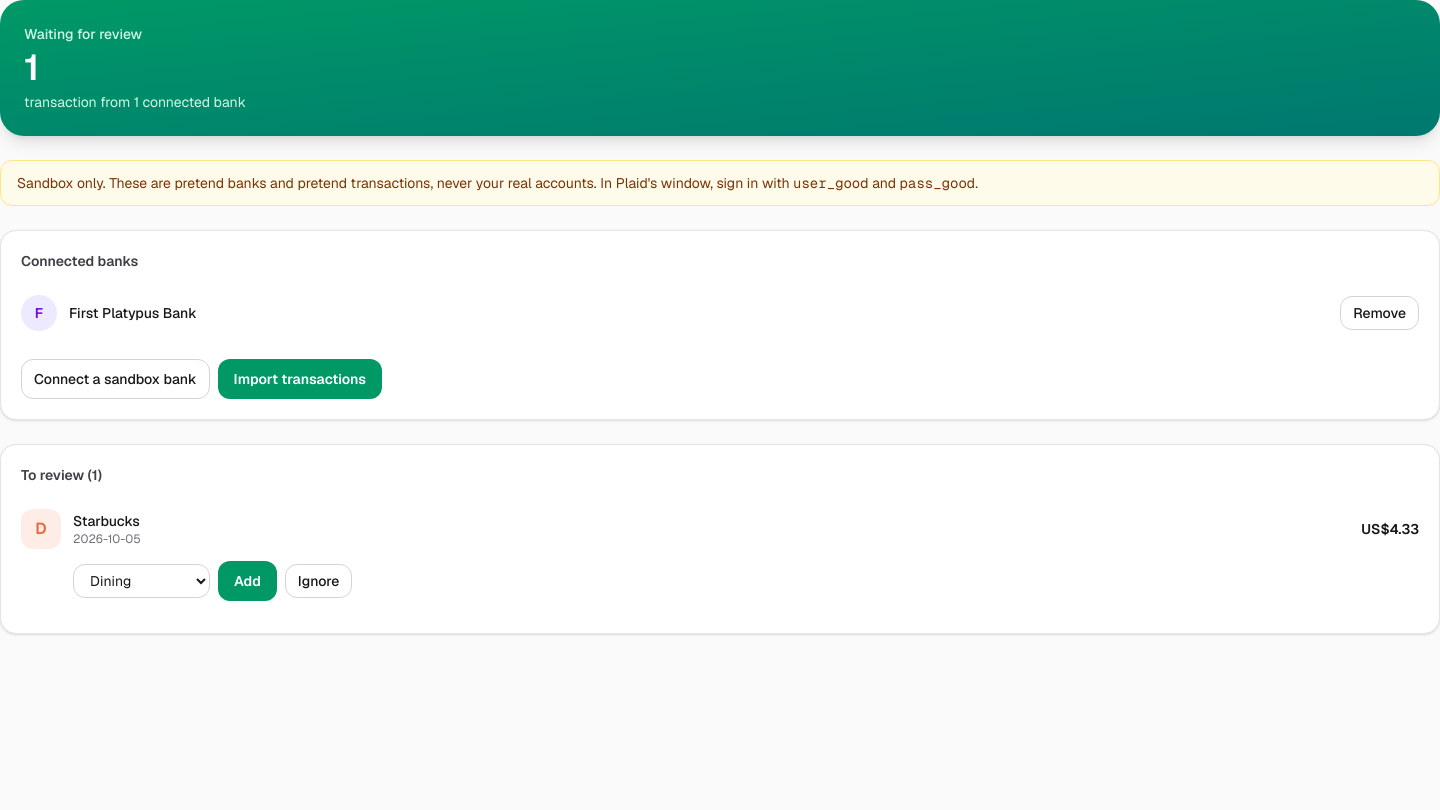
Scenario: an import that finds nothing suggests trying again
The image size is (1440, 810).
Click the button "Import transactions" at (300, 379), box [218,359,382,399]
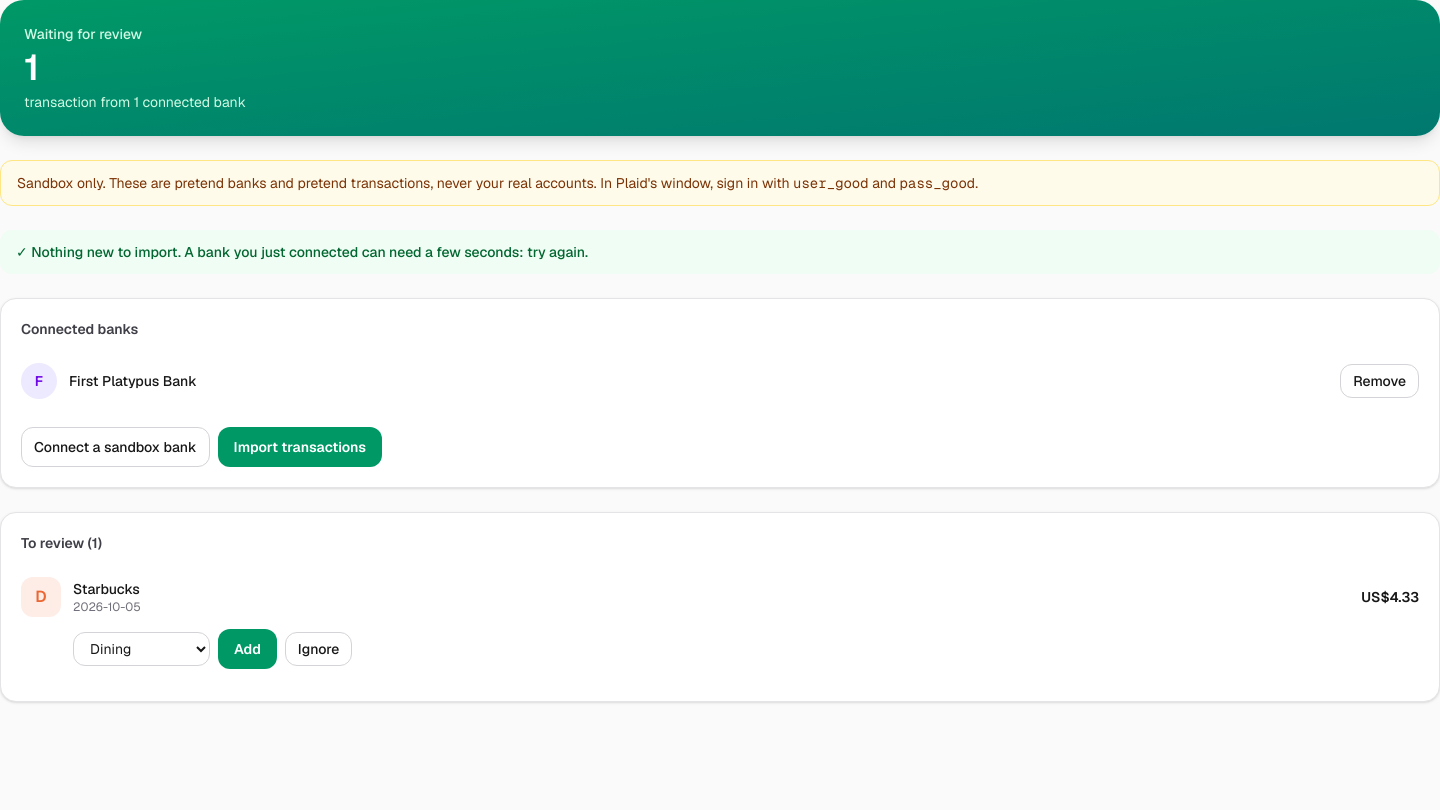
Result: the message shows "Nothing new to import" at [31,243,588,261]
